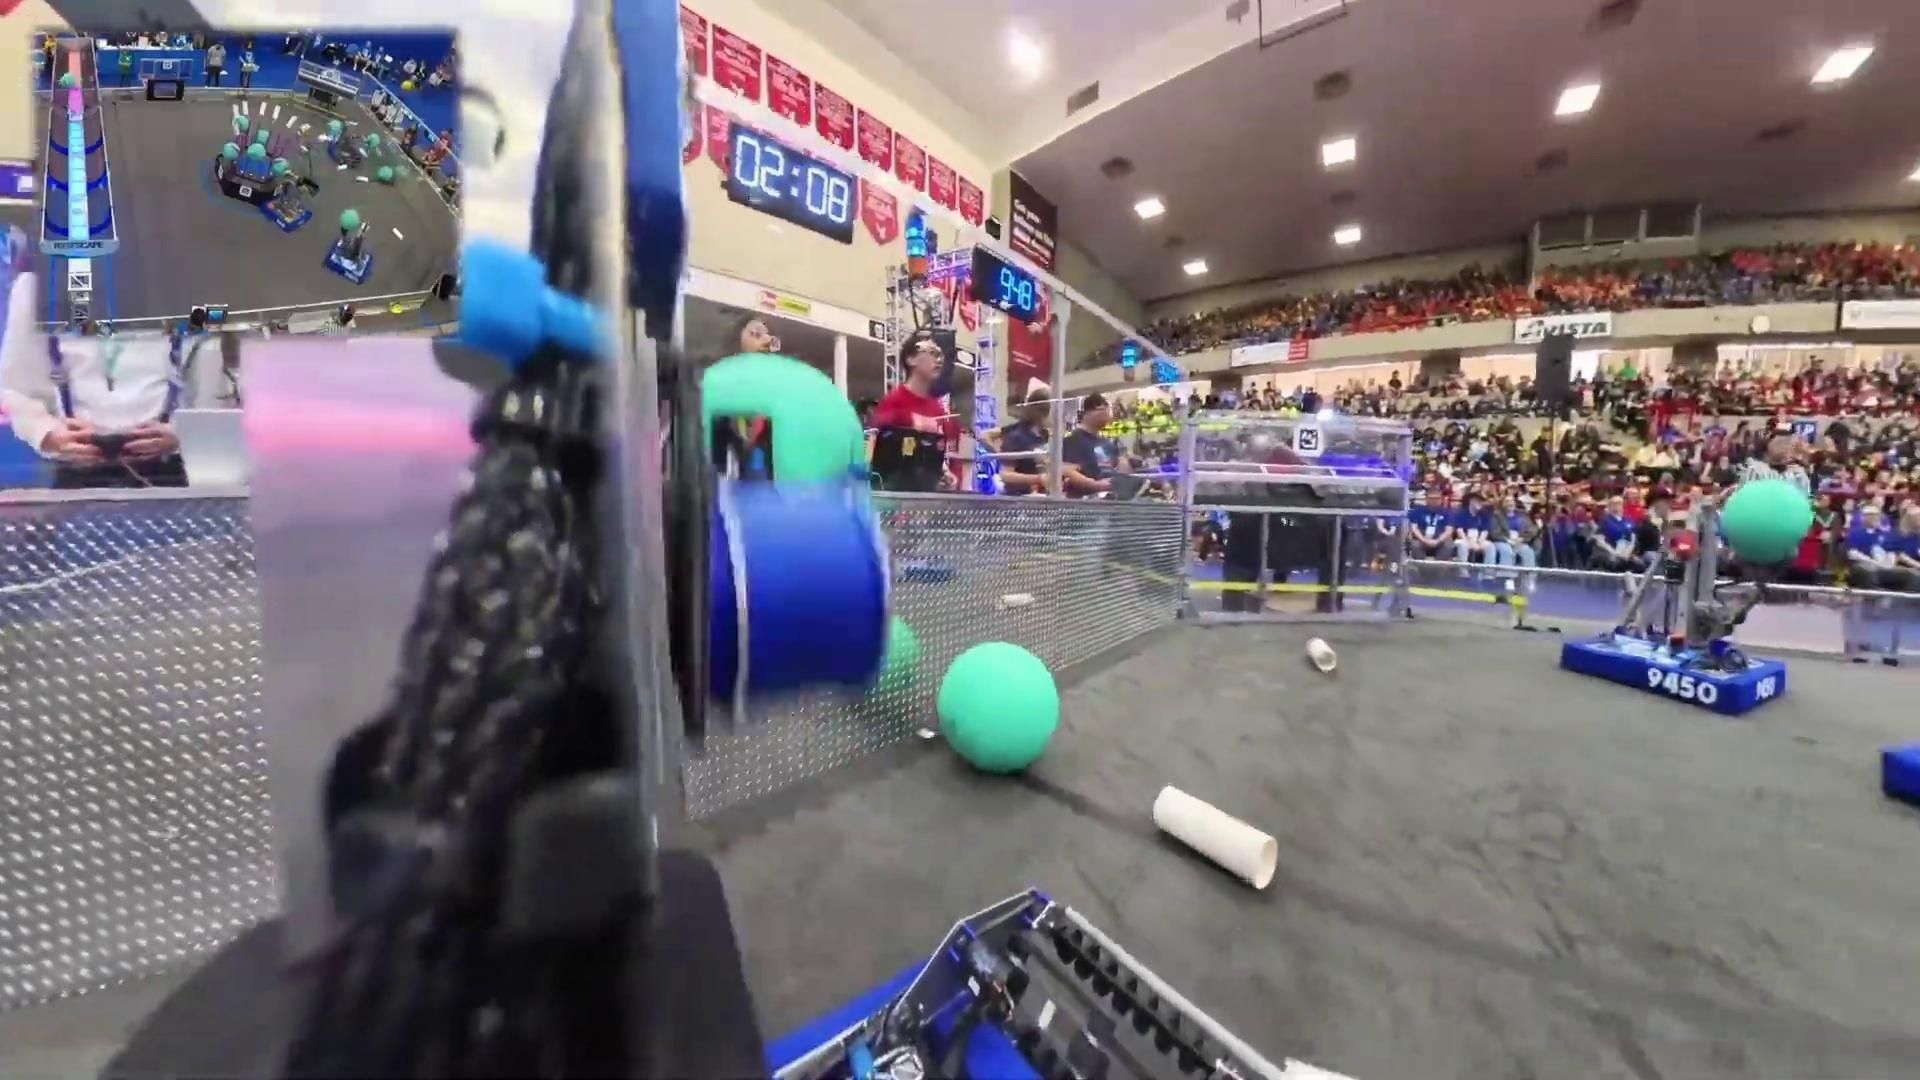robot: (1560, 485, 1787, 711), (322, 223, 377, 284), (262, 169, 315, 231), (1879, 740, 1920, 807), (327, 123, 365, 171)
